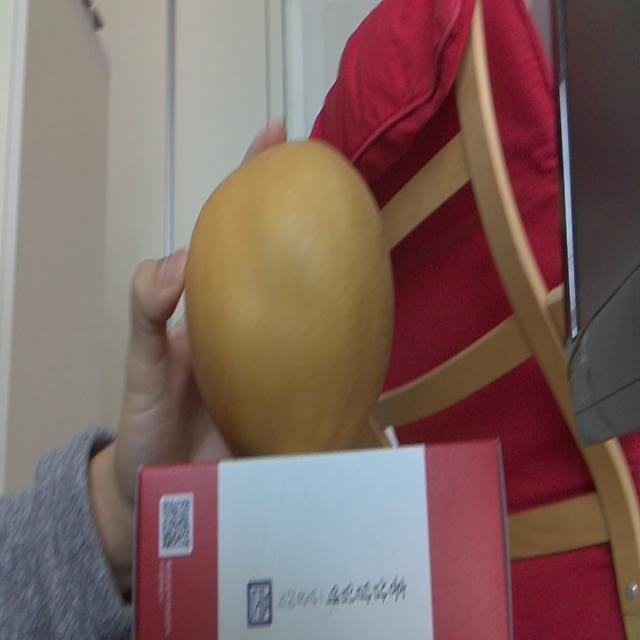pear: (186, 134, 397, 456)
